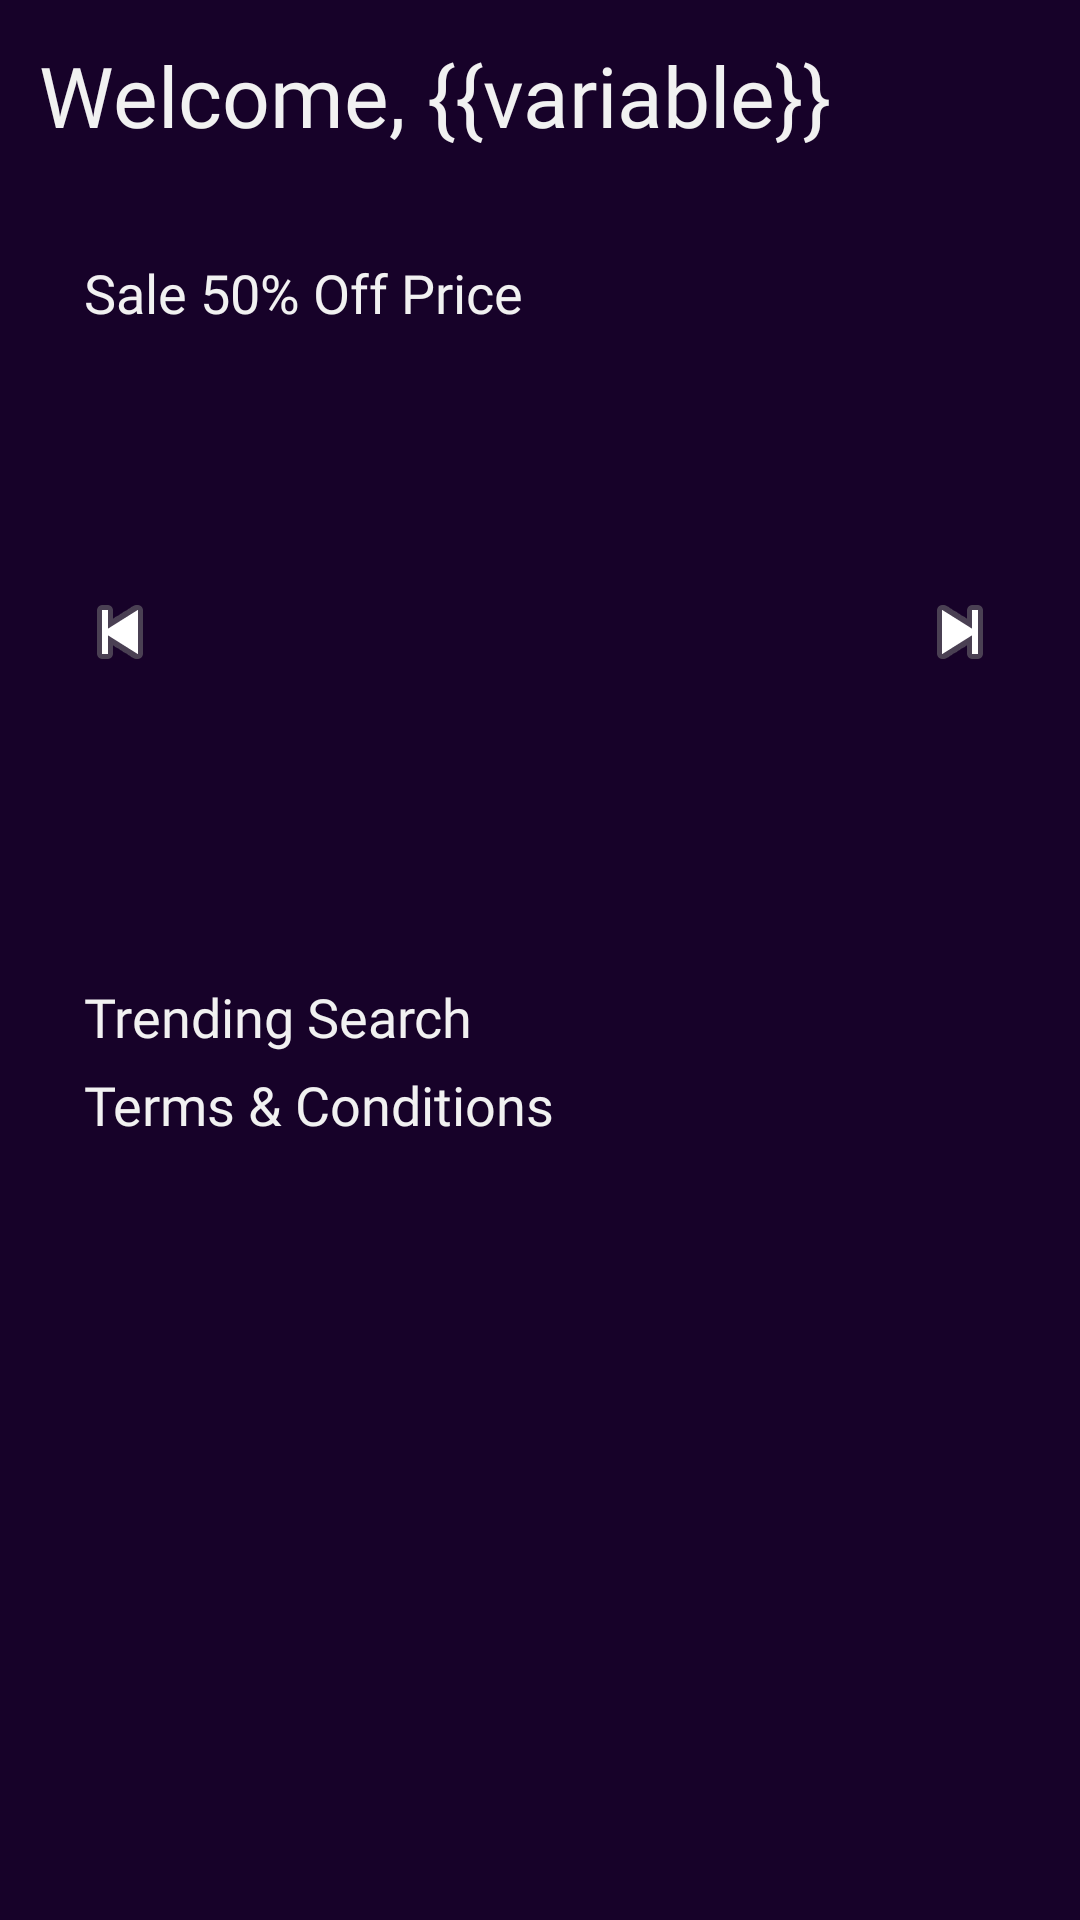

Where to tap for icons on this 1080px x 1920px app screen, as [x,y]:
next: [960,632]
previous: [120,632]
